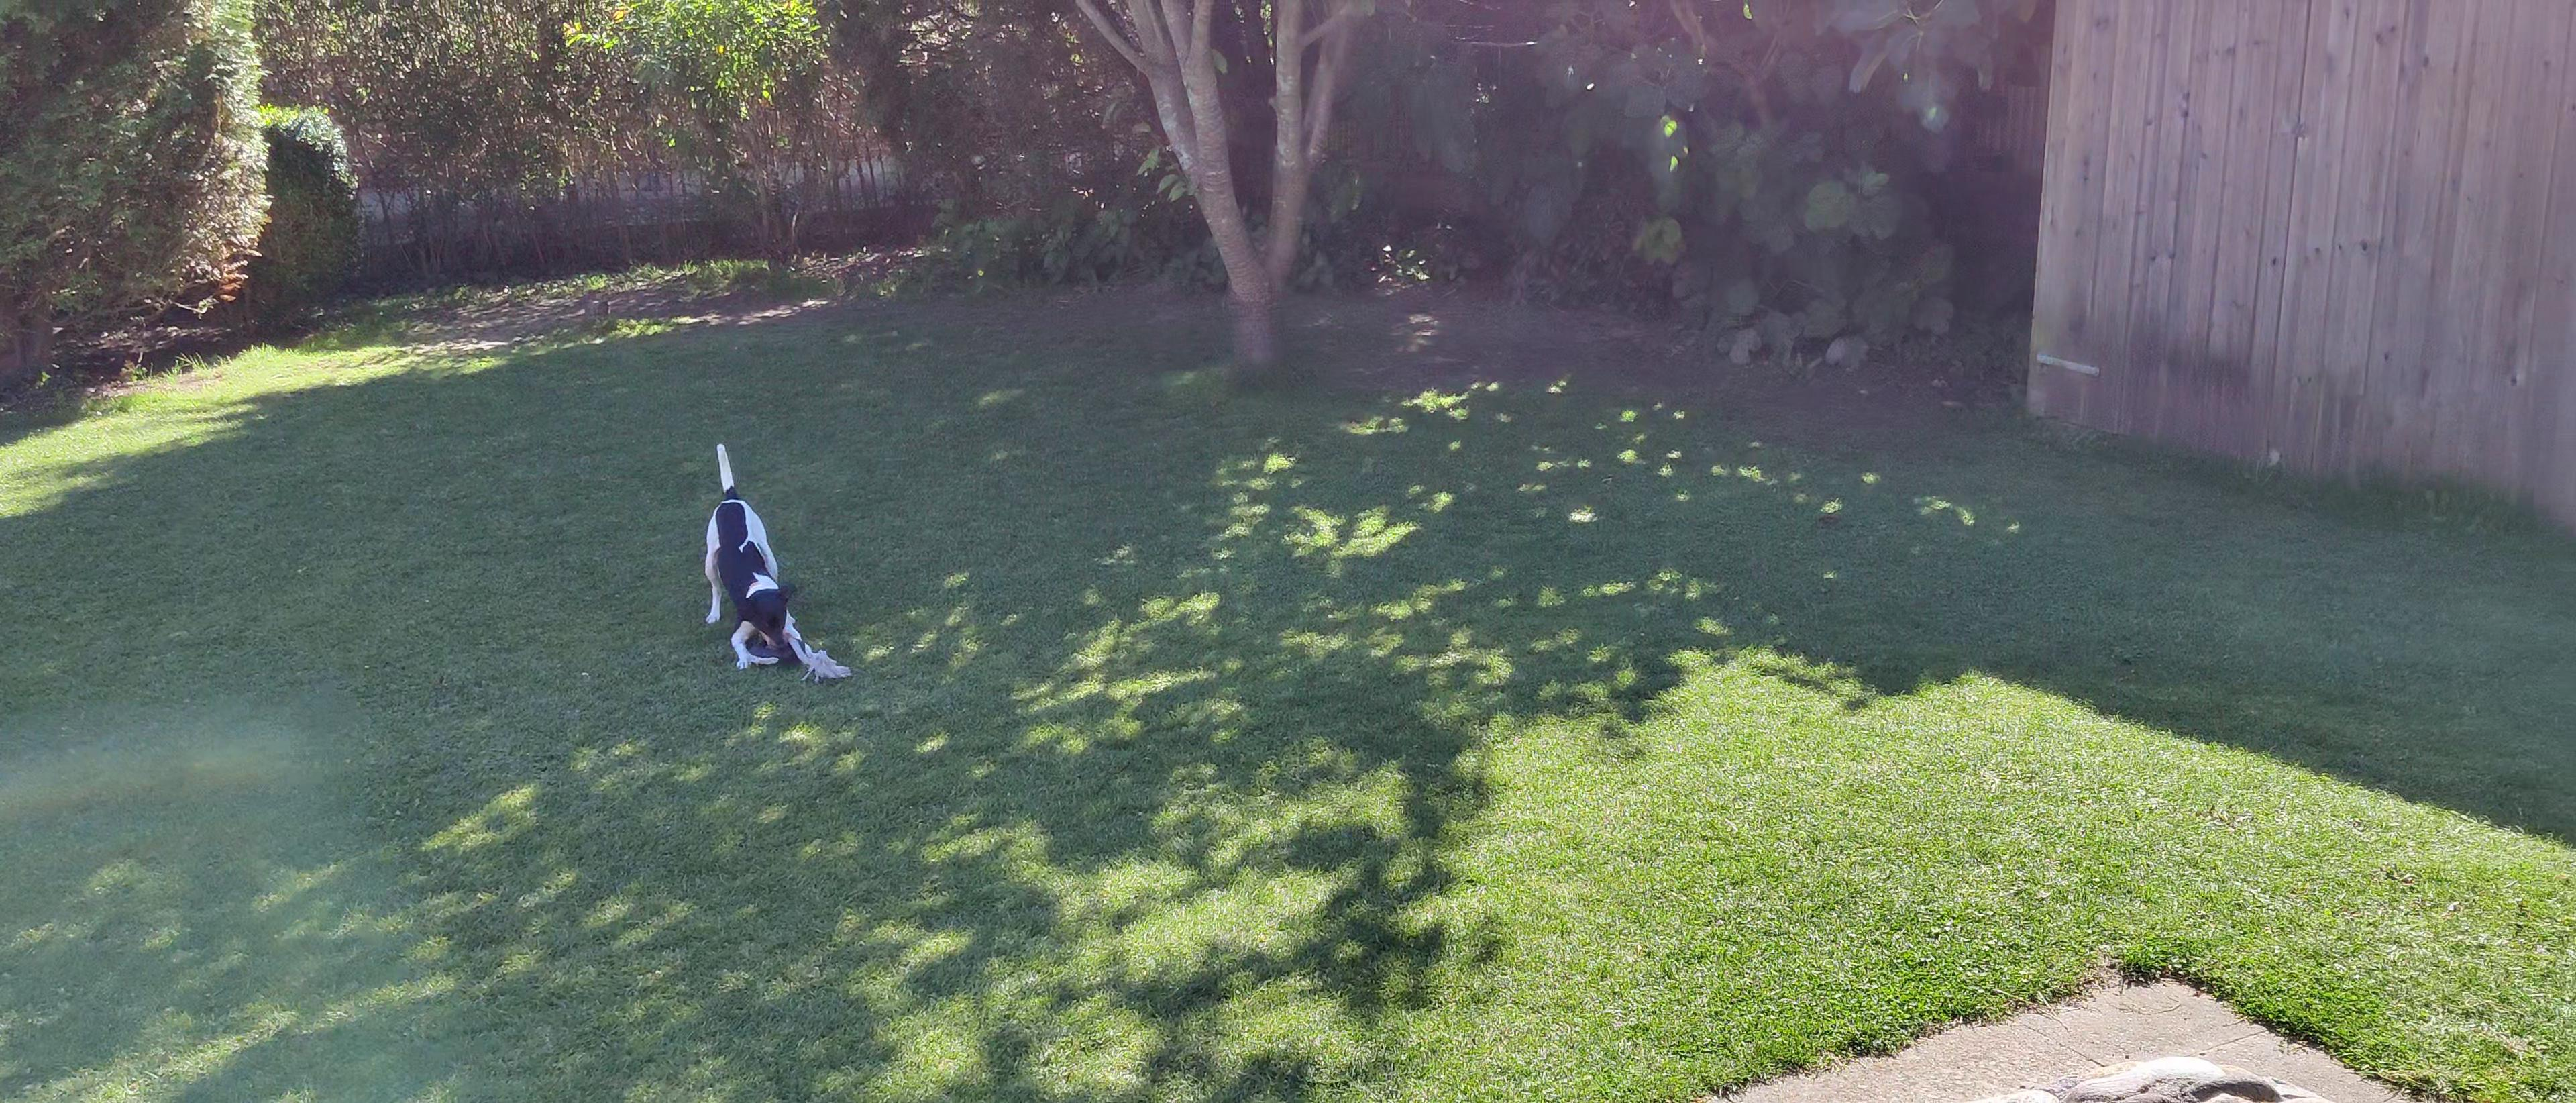Dog: (692, 424, 812, 677)
